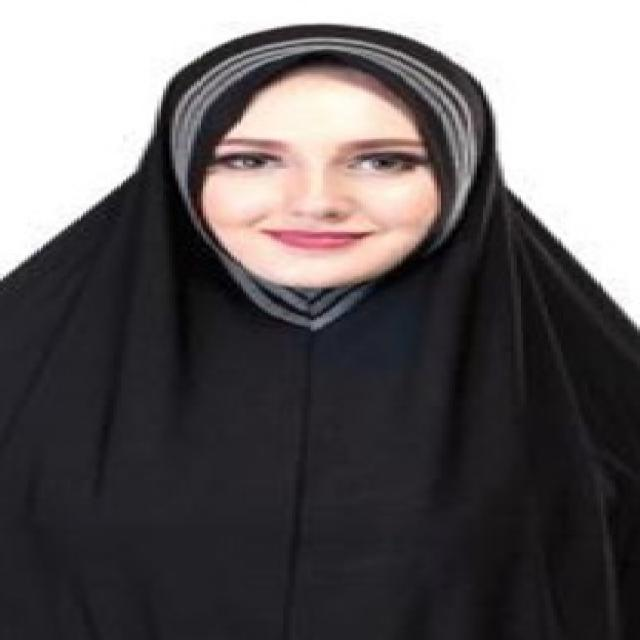head: (110, 24, 578, 297)
